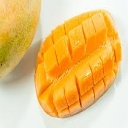mango: (35, 8, 122, 118)
